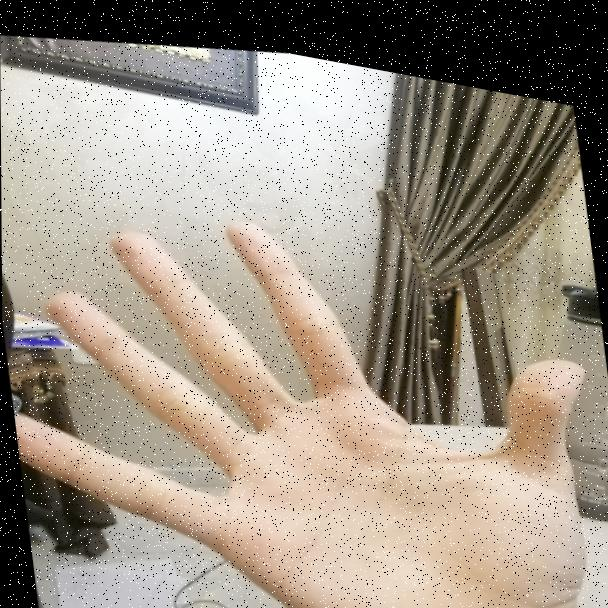five: (2, 137, 608, 608)
